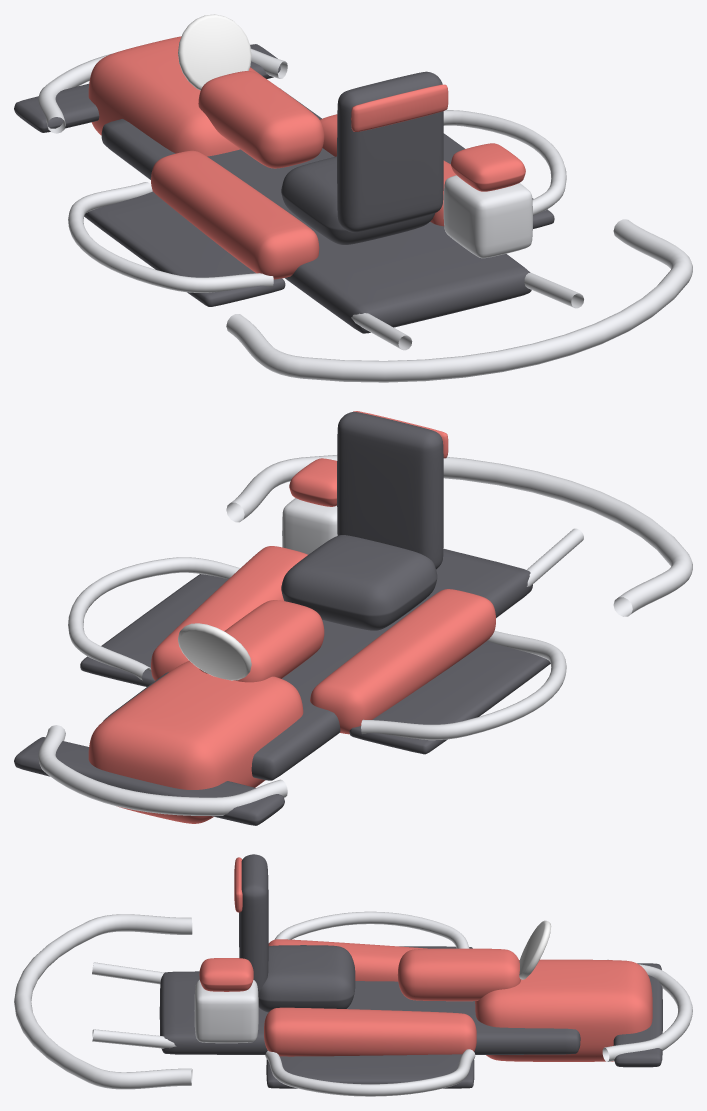
File: kart_frame.glb
3 views of the same model, one above another, from view 1: azimuth 30°, elevation 25°; view 2: azimuth 150°, elevation 25°; view 3: azimuth 270°, elevation 25° (orthographic). The views are drawn at different scales.
Parts seen in each view (by area): view 1: Trim_floor, Chrome_rearbar, Trim_seatback, Paint_pod-1, Paint_nose, Trim_podbase-1, Paint_cowl, Chrome_engine, Chrome_nerf-1, Trim_seat, Plate_number, Chrome_nerf1 (+8 smaller); view 2: Paint_nose, Trim_seatback, Paint_pod-1, Trim_seat, Trim_floor, Chrome_rearbar, Trim_podbase-1, Paint_pod1, Paint_cowl, Chrome_frontbar, Trim_podbase1, Chrome_nerf-1 (+6 smaller); view 3: Paint_nose, Paint_pod1, Trim_floor, Chrome_rearbar, Paint_cowl, Trim_seat, Trim_podbase1, Chrome_engine, Trim_seatback, Chrome_nerf1, Chrome_nerf-1, Paint_pod-1 (+7 smaller).
Part boxes in pixels (x1,y1,x2,y2): Trim_floor: (101,88,531,333); Chrome_rearbar: (226,219,692,382); Trim_seatback: (337,71,443,232); Paint_pod-1: (151,150,319,279); Paint_nose: (88,36,261,156); Trim_podbase-1: (84,191,285,306); Paint_cowl: (198,71,324,168); Chrome_engine: (443,175,532,258); Chrome_nerf-1: (68,182,273,292); Trim_seat: (281,156,434,244); Plate_number: (178,14,251,90); Chrome_nerf1: (443,110,566,215); Paint_nose: (88,661,303,823); Trim_seatback: (337,412,443,569); Paint_pod-1: (310,589,495,734); Trim_seat: (281,535,437,630); Trim_floor: (103,548,532,780); Chrome_rearbar: (226,455,692,616); Trim_podbase-1: (349,640,550,754); Paint_pod1: (151,546,307,680); Paint_cowl: (199,600,324,682); Chrome_frontbar: (38,725,287,816); Trim_podbase1: (80,574,227,686); Chrome_nerf-1: (361,631,566,740); Paint_nose: (475,959,652,1061); Paint_pod1: (264,1007,476,1056); Trim_floor: (159,971,580,1054); Chrome_rearbar: (14,914,192,1089); Paint_cowl: (397,948,521,1001); Trim_seat: (258,945,355,1012); Trim_podbase1: (266,1054,474,1088); Chrome_engine: (194,980,258,1043); Trim_seatback: (239,854,268,993); Chrome_nerf1: (265,1049,475,1096); Chrome_nerf-1: (274,911,469,948); Paint_pod-1: (268,939,427,981).
Bounding box in the file's own units: 1.7 × 0.7889 × 2.74.
